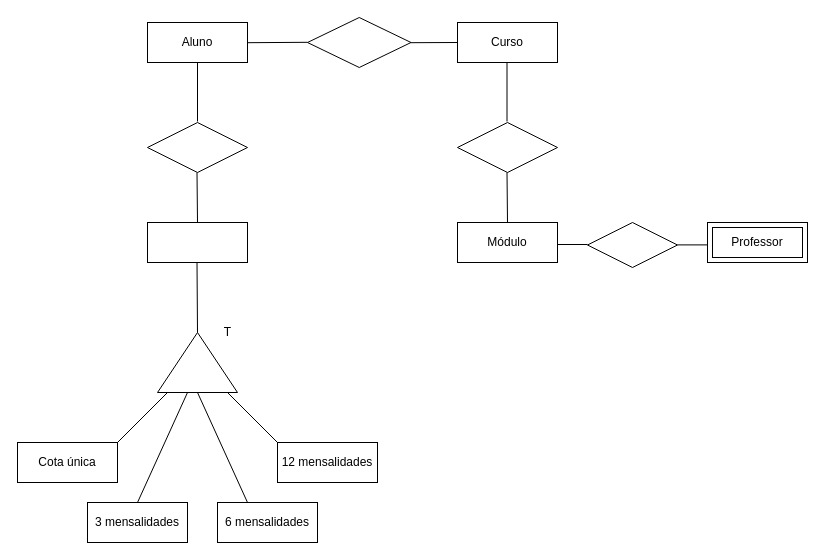
This 825x560 diagram has some shape labels left out. Here are the shapes that lost their labels. From the top down, the centre of each, then its label:
At [358,42]: "matricula-se".
At [197,147]: "paga".
At [507,147]: "contém".
At [197,242]: "Mensalidade".
At [632,245]: "ministrado".
